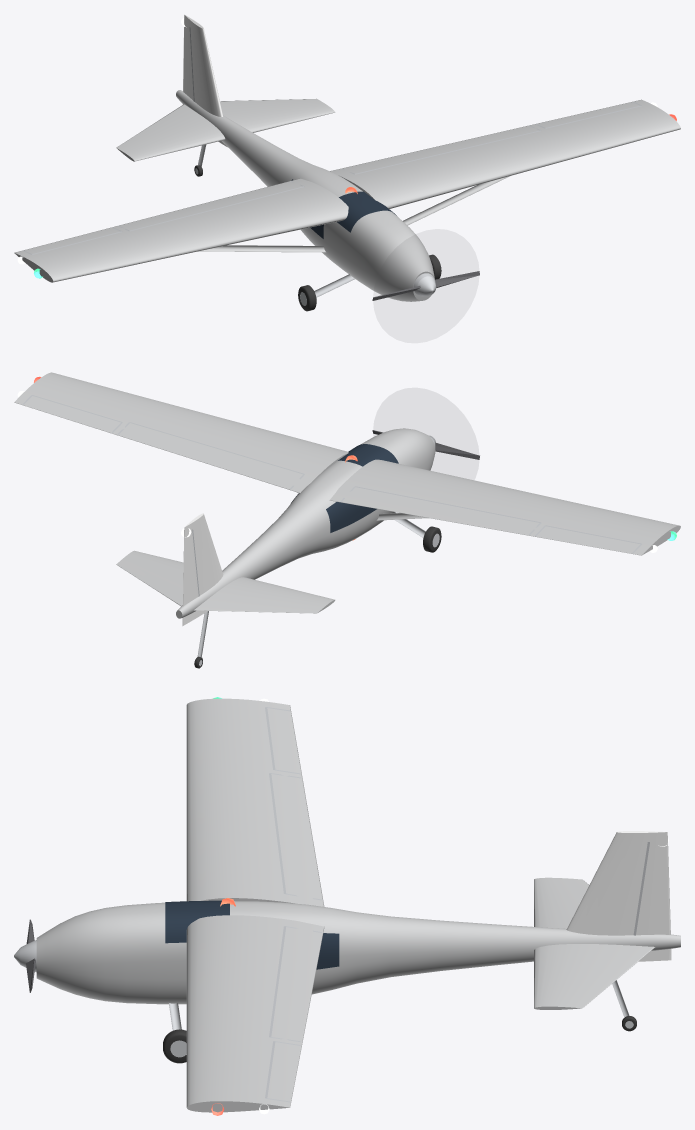
The picture shows the model from 3 angles, top to bottom: view 1: azimuth 30°, elevation 25°; view 2: azimuth 150°, elevation 25°; view 3: azimuth 270°, elevation 25°; orthographic projection. The views are drawn at different scales.
Parts seen in each view (by area): view 1: airframe, prop; view 2: airframe; view 3: airframe.
Part boxes in pixels (x1=…): airframe: x1=14, y1=15, x2=680, y2=311; prop: x1=372, y1=271, x2=479, y2=300; airframe: x1=14, y1=372, x2=680, y2=668; airframe: x1=14, y1=697, x2=680, y2=1115.
Size of the model in its own units: 10.42 by 2.34 by 7.14.
